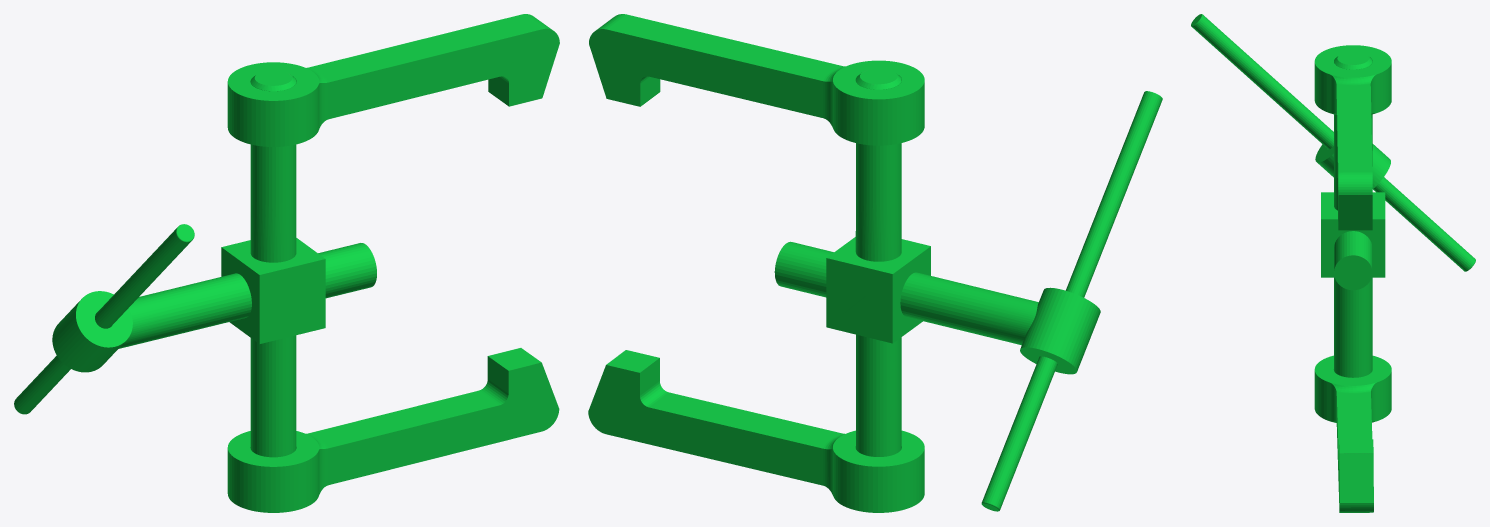
File: extrator.glb
The picture shows the model from 3 angles, left to right: view 1: azimuth 30°, elevation 25°; view 2: azimuth 150°, elevation 25°; view 3: azimuth 270°, elevation 25°; orthographic projection. The views are drawn at different scales.
Visible parts, largest first — view 1: node_id3; view 2: node_id3; view 3: node_id3.
Boxes of the visible parts, bbox=[...] form: node_id3: bbox=[14, 14, 559, 512]; node_id3: bbox=[588, 14, 1162, 512]; node_id3: bbox=[1191, 14, 1475, 512].
Size of the model in its own units: 0.512 by 0.4231 by 0.3094.
Materials: 1 (1 with a texture image).
